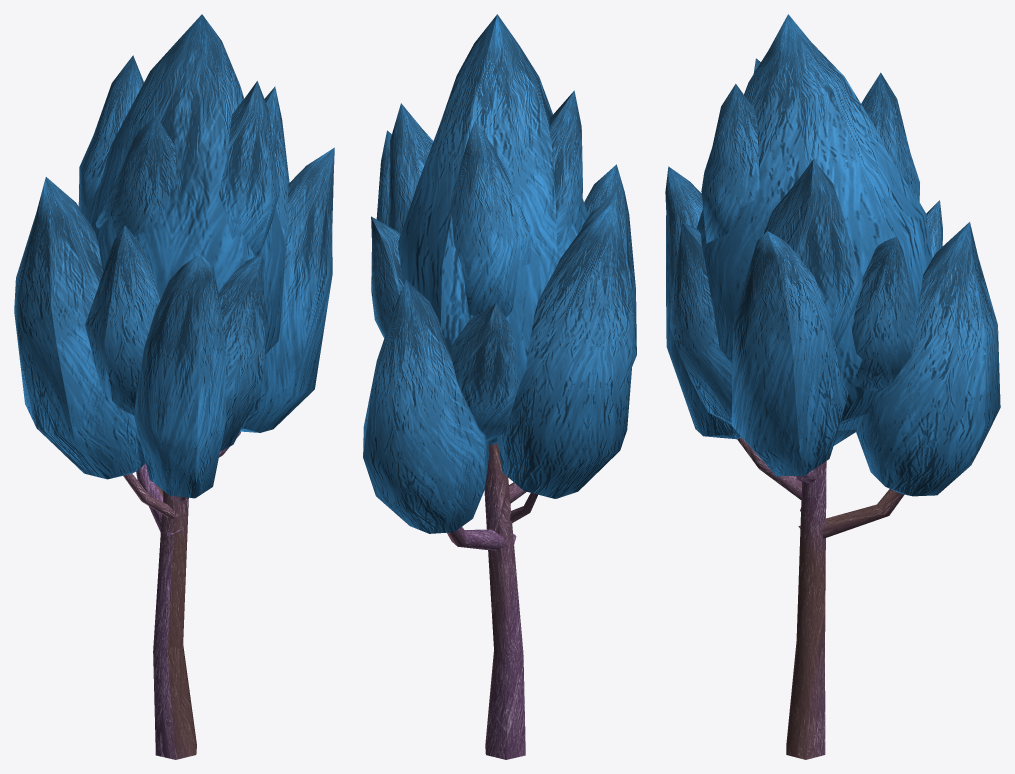
File: Veg_Tree_04_c_Art.fbx
The picture shows the model from 3 angles, left to right: view 1: azimuth 30°, elevation 25°; view 2: azimuth 150°, elevation 25°; view 3: azimuth 270°, elevation 25°; orthographic projection. The views are drawn at different scales.
Visible parts, largest first — view 1: Veg_Tree_04_c; view 2: Veg_Tree_04_c; view 3: Veg_Tree_04_c.
Part boxes in pixels (<box>): Veg_Tree_04_c: <box>14,14,334,759</box>; Veg_Tree_04_c: <box>363,14,636,759</box>; Veg_Tree_04_c: <box>665,14,1000,759</box>.
Size of what is drawn, in the model's own units: 382 by 950 by 388.
